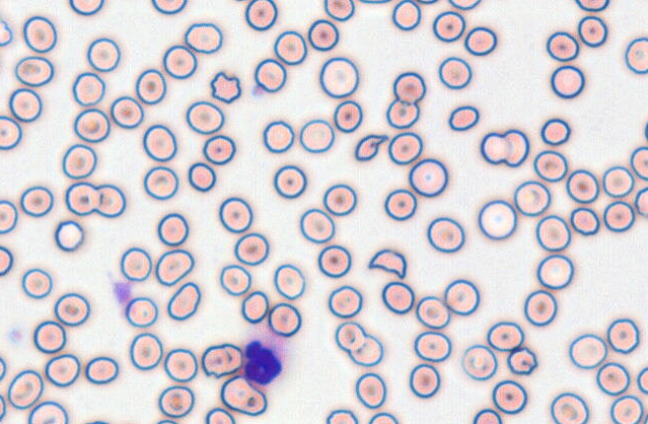GRAN: (238, 331, 293, 386)
RBC: (220, 375, 267, 416), (480, 128, 529, 167), (319, 56, 359, 98), (477, 199, 517, 240), (408, 158, 448, 197), (155, 248, 194, 286), (201, 342, 242, 378), (7, 369, 43, 409), (426, 216, 464, 253), (568, 333, 607, 369), (536, 253, 574, 289), (513, 180, 550, 216), (535, 214, 571, 251), (443, 278, 479, 315), (22, 15, 57, 53), (185, 100, 224, 134), (299, 207, 335, 243), (461, 344, 497, 380), (142, 124, 177, 161), (129, 332, 163, 370), (549, 391, 589, 423), (491, 379, 527, 414), (523, 289, 557, 326), (218, 196, 252, 233), (73, 108, 110, 142), (14, 55, 53, 87), (299, 118, 334, 153), (162, 44, 197, 79), (143, 165, 178, 200), (44, 353, 80, 387), (62, 143, 96, 179), (54, 292, 90, 326), (157, 385, 194, 418), (413, 330, 451, 362), (267, 302, 301, 337), (415, 295, 450, 329), (388, 131, 423, 165), (163, 348, 198, 382), (8, 87, 42, 122), (273, 30, 307, 65), (86, 37, 120, 72), (233, 232, 269, 265), (354, 372, 386, 409), (184, 22, 222, 53), (64, 181, 98, 215), (317, 244, 351, 278), (596, 361, 630, 395), (565, 169, 599, 203), (348, 333, 383, 366), (327, 285, 362, 318), (550, 65, 585, 98), (72, 71, 105, 106), (606, 318, 639, 353), (273, 263, 305, 299), (486, 321, 524, 351), (93, 183, 126, 217), (381, 280, 414, 314), (438, 56, 472, 89), (110, 95, 144, 128), (533, 149, 567, 182), (273, 164, 306, 198), (322, 183, 356, 216), (408, 363, 440, 398), (120, 246, 152, 281), (135, 68, 166, 104), (33, 320, 66, 353), (384, 188, 417, 221), (254, 58, 286, 92), (392, 71, 426, 103), (19, 185, 53, 217), (157, 212, 189, 246), (307, 18, 339, 51), (432, 10, 465, 42), (602, 165, 634, 198), (262, 120, 294, 153), (219, 264, 251, 296), (603, 200, 635, 232), (125, 296, 158, 327), (386, 98, 419, 129), (202, 134, 235, 165), (577, 15, 608, 47), (244, 0, 277, 30), (464, 26, 497, 56), (546, 31, 579, 61), (609, 394, 643, 423), (84, 356, 119, 384), (334, 321, 366, 351), (54, 219, 84, 251), (240, 290, 269, 323), (27, 400, 68, 423), (21, 268, 52, 298), (333, 100, 362, 132), (391, 0, 421, 30), (187, 161, 216, 192), (569, 206, 600, 235), (624, 37, 647, 74), (540, 117, 570, 145), (448, 105, 479, 131), (0, 115, 22, 149), (323, 0, 355, 21), (0, 199, 18, 234), (630, 146, 647, 180), (68, 0, 104, 15), (151, 0, 187, 14), (325, 408, 358, 423), (472, 407, 502, 423), (205, 407, 235, 423), (575, 0, 609, 12), (0, 245, 13, 276), (634, 186, 647, 217), (368, 411, 398, 423), (448, 0, 481, 10), (636, 366, 647, 394), (0, 393, 6, 420), (0, 356, 6, 381), (156, 418, 178, 424), (358, 0, 391, 4), (83, 420, 110, 424), (644, 117, 648, 142), (415, 0, 438, 4)
Schistocyte: (165, 280, 204, 322), (367, 246, 408, 279), (210, 72, 243, 104), (506, 347, 540, 376), (356, 134, 389, 162), (0, 16, 14, 50)
